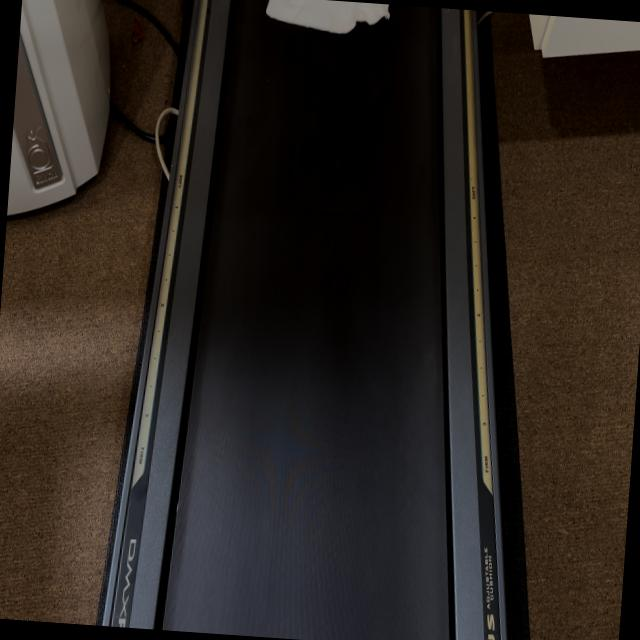Recycle: (263, 0, 390, 37)
